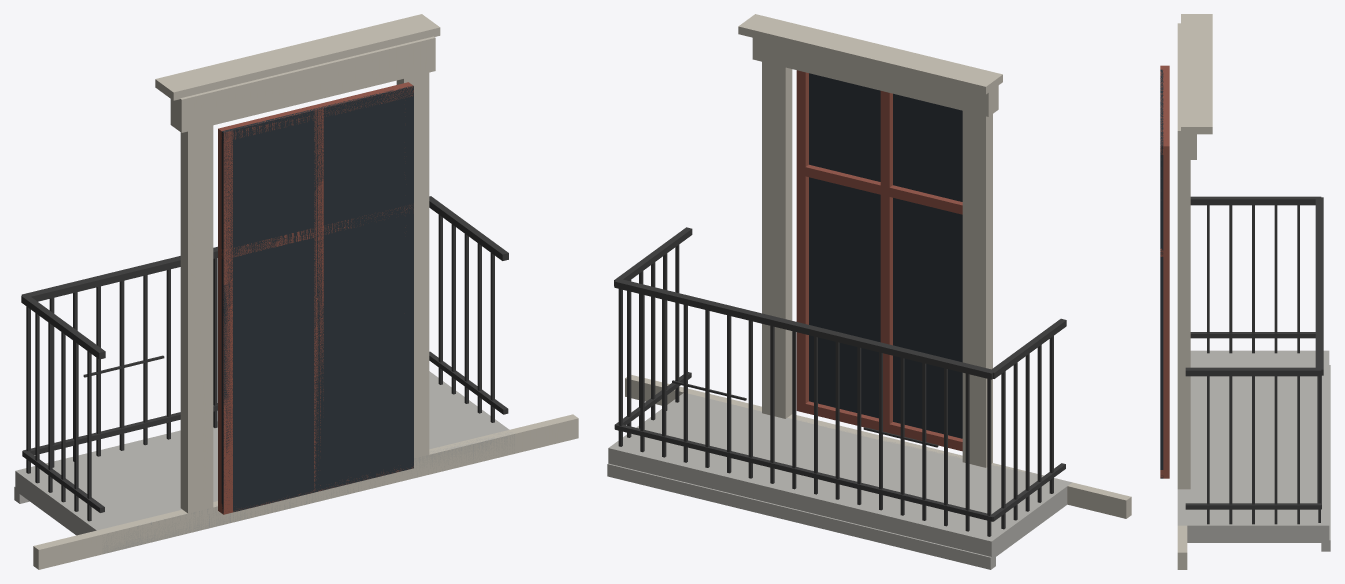
The model's file is sh_bay_bal.glb.
3 renders of one model, left to right at view 1: azimuth 30°, elevation 25°; view 2: azimuth 150°, elevation 25°; view 3: azimuth 270°, elevation 25°, orthographic. The views are drawn at different scales.
Visible parts, largest first — view 1: sh_bay_bal; view 2: sh_bay_bal; view 3: sh_bay_bal.
Part boxes in pixels (bbox=[...]): sh_bay_bal: bbox=[14, 14, 578, 569]; sh_bay_bal: bbox=[607, 14, 1131, 569]; sh_bay_bal: bbox=[1160, 14, 1330, 569].
Size of the model in its own units: 3.4 by 2.73 by 1.07.
